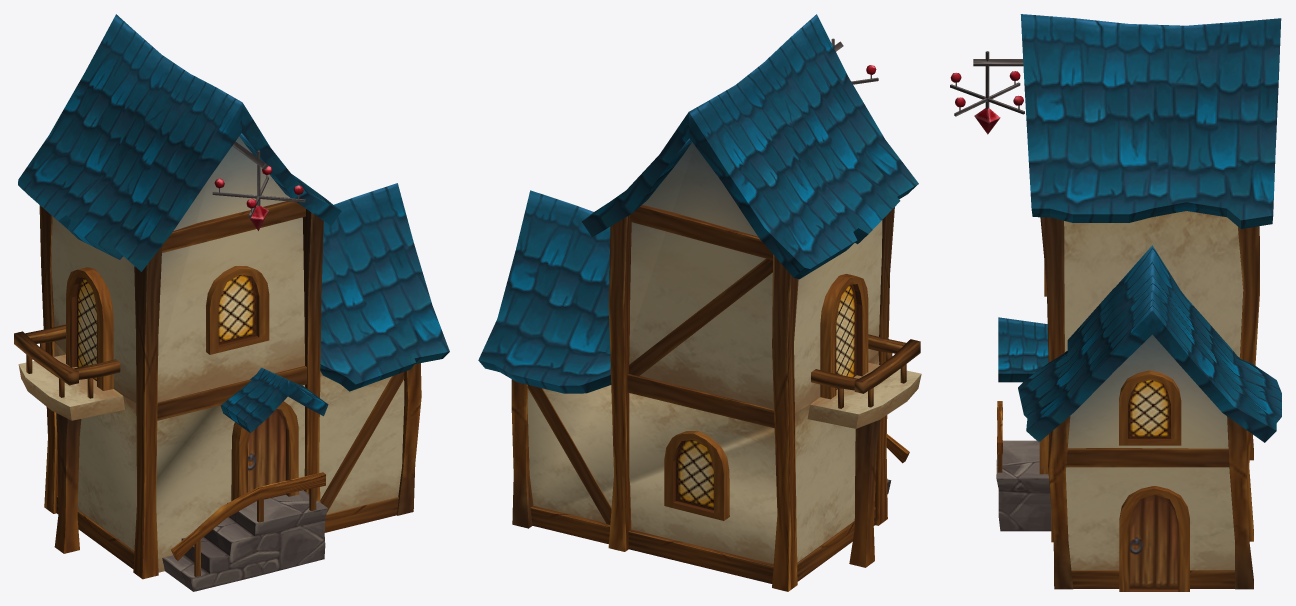
The model's file is building_6_2.FBX.
The picture shows the model from 3 angles, left to right: view 1: azimuth 30°, elevation 25°; view 2: azimuth 150°, elevation 25°; view 3: azimuth 270°, elevation 25°; orthographic projection. The views are drawn at different scales.
Visible parts, largest first — view 1: building_6_2; view 2: building_6_2; view 3: building_6_2.
Boxes of the visible parts, x1,y1,x2,y2 form: building_6_2: [14, 14, 449, 591]; building_6_2: [478, 14, 921, 591]; building_6_2: [950, 14, 1281, 591].
Bounding box in the file's own units: 292 × 360 × 225.
